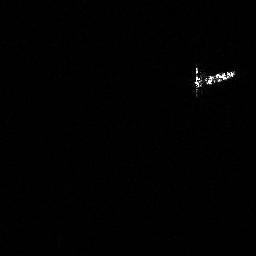ship: (192, 67, 236, 95)
